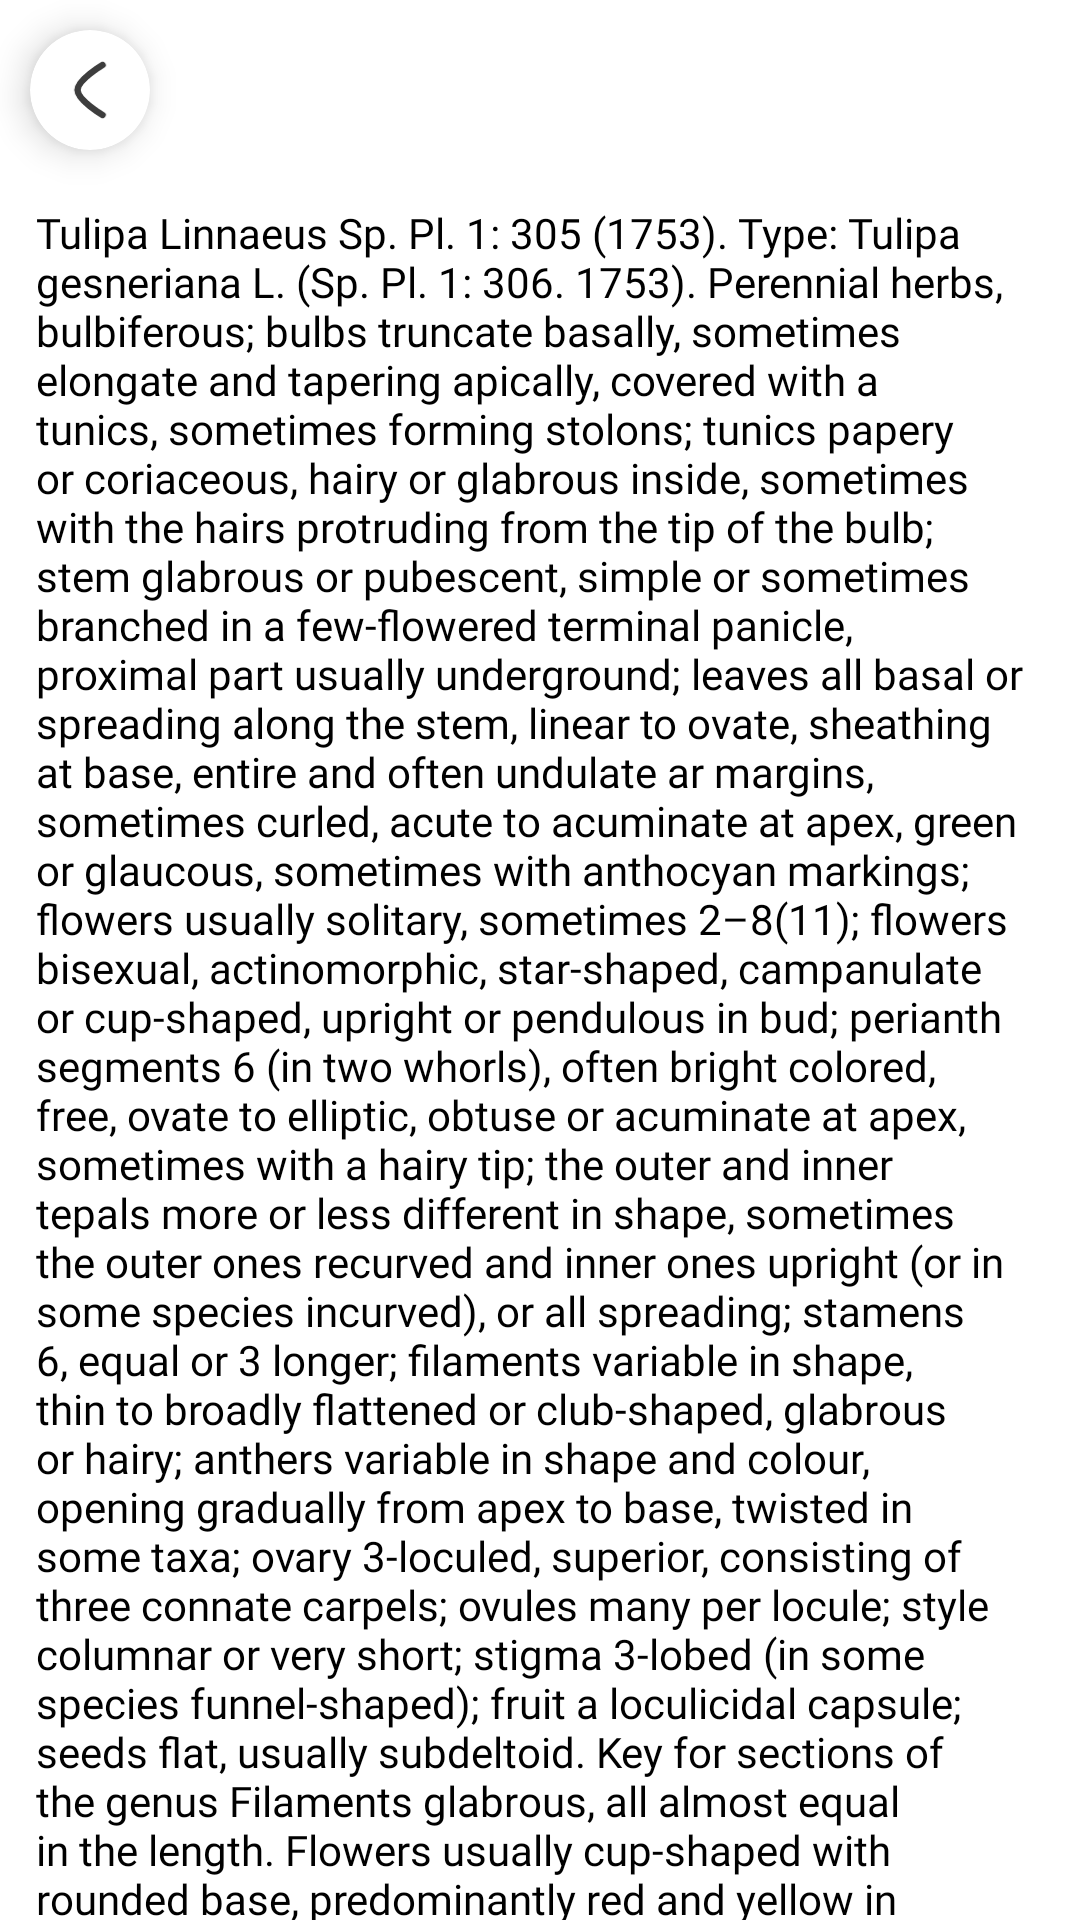

Screen size 1080*1920. Icon name, then its center in pixels as (x=x, y=y):
back: (x=68, y=98)
